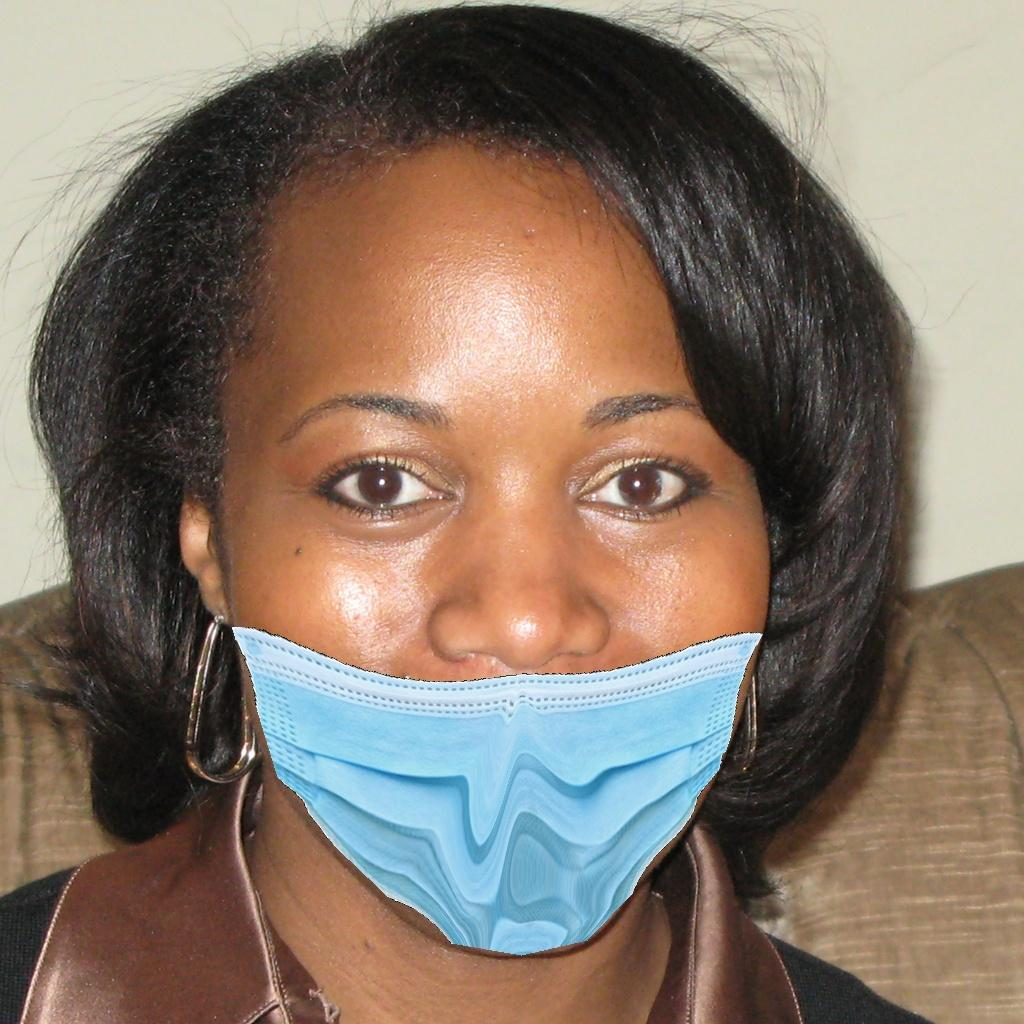Máscara Incorreta: (203, 286, 756, 873)
